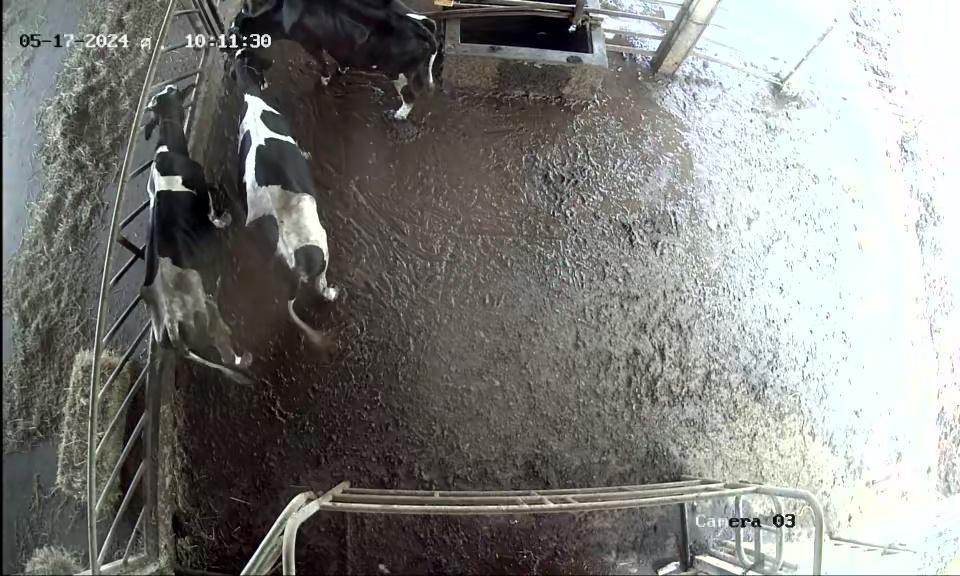stand: (218, 42, 348, 334), (142, 77, 241, 387), (224, 0, 444, 128)
